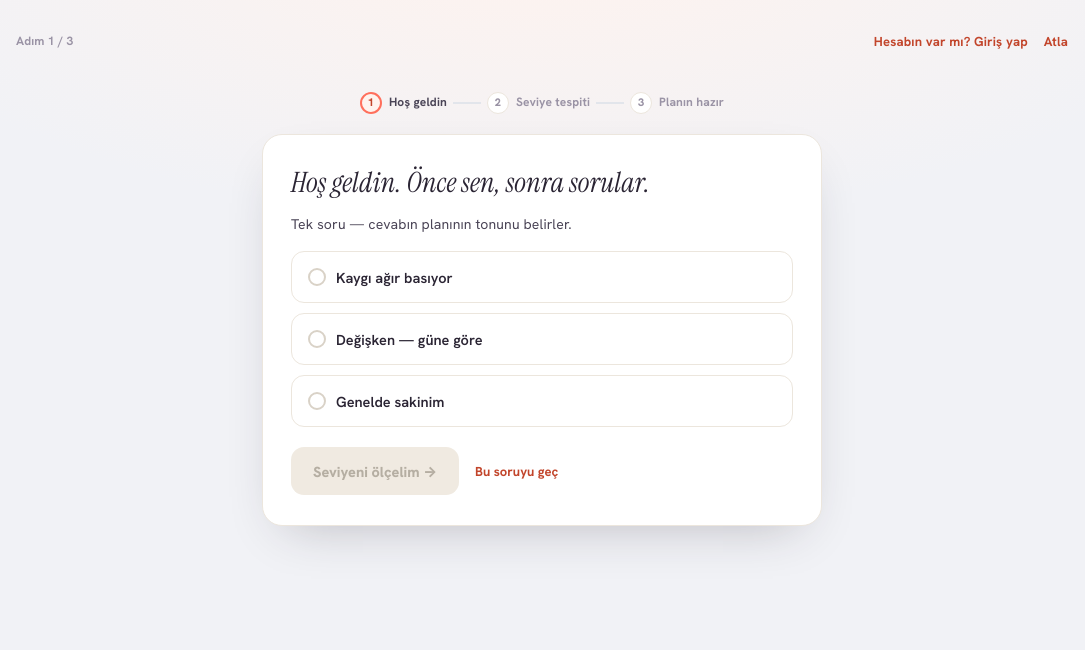
OnboardingPage › ton seçince yanıt görünür + CTA etkinleşir
Expected: the button "Seviyeni ölçelim →" is disabled, top-left (291, 448), bottom-right (459, 496)
Click the radio button labelled "Kaygı ağır basıyor". click: (394, 277)
box: top-left (291, 252), bottom-right (793, 304)
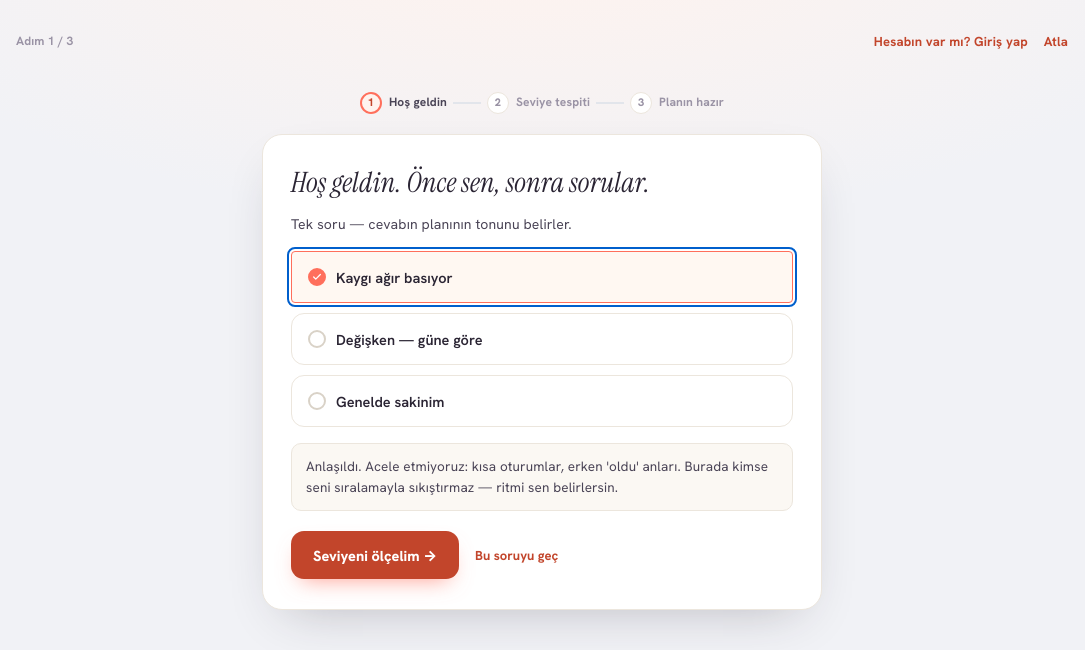
Expected: the text "Acele etmiyoruz" is shown, top-left (306, 458), bottom-right (768, 496)
Expected: the button "Seviyeni ölçelim →" is enabled, top-left (291, 531), bottom-right (459, 579)
